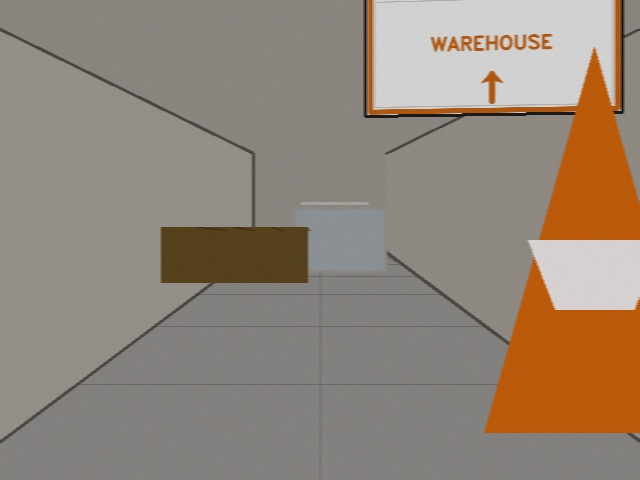directional_sign: (365, 0, 622, 116)
hospital_bed: (294, 208, 385, 271)
obstacle: (484, 47, 639, 432)
pallet: (161, 227, 310, 282)
